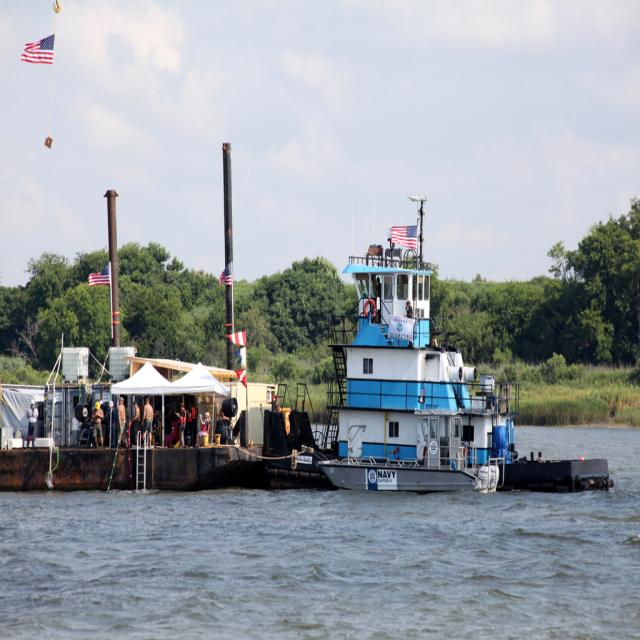Boat: (298, 184, 552, 495)
